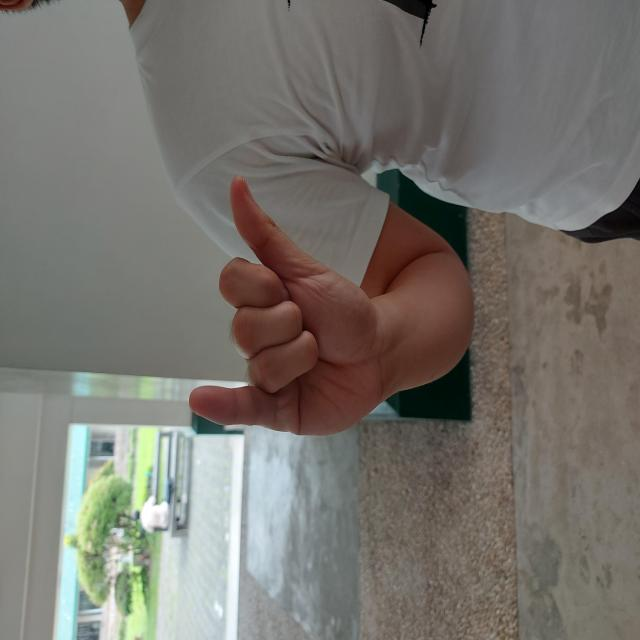Y: (201, 186, 471, 387)
